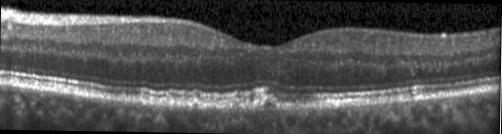retinal_drusen: (261, 98, 276, 108), (161, 95, 171, 104), (151, 96, 160, 105), (207, 105, 218, 110), (173, 101, 179, 110), (137, 100, 144, 106), (185, 101, 191, 108), (192, 102, 198, 108), (180, 101, 184, 110)
